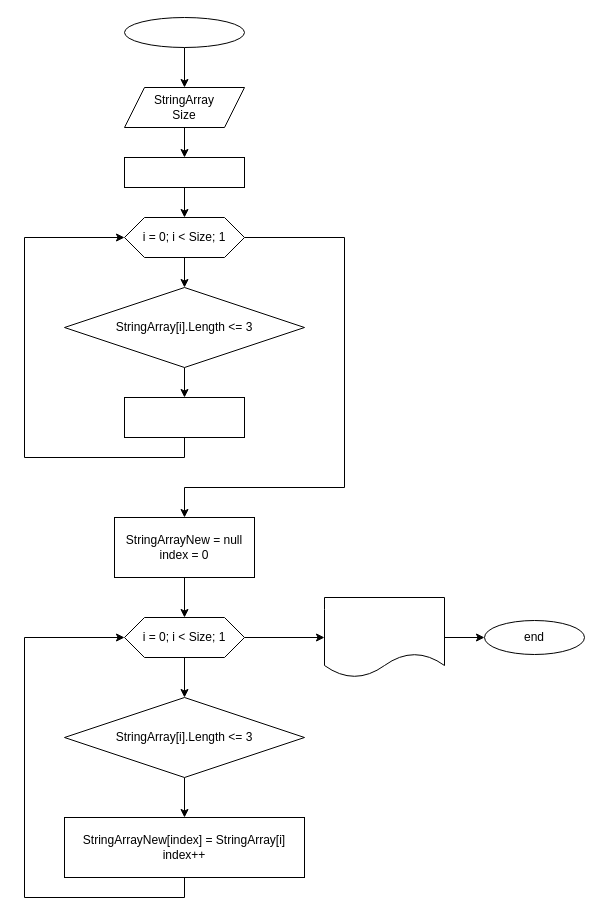
This 602x923 diagram has some shape labels left out. Each missing label, with the centre of its shape:
"SizeNew ++" belongs at (x=184, y=417).
"SizeNew = 0" belongs at (x=184, y=172).
"start" belongs at (x=184, y=32).
"StringArrayNew" belongs at (x=384, y=637).
